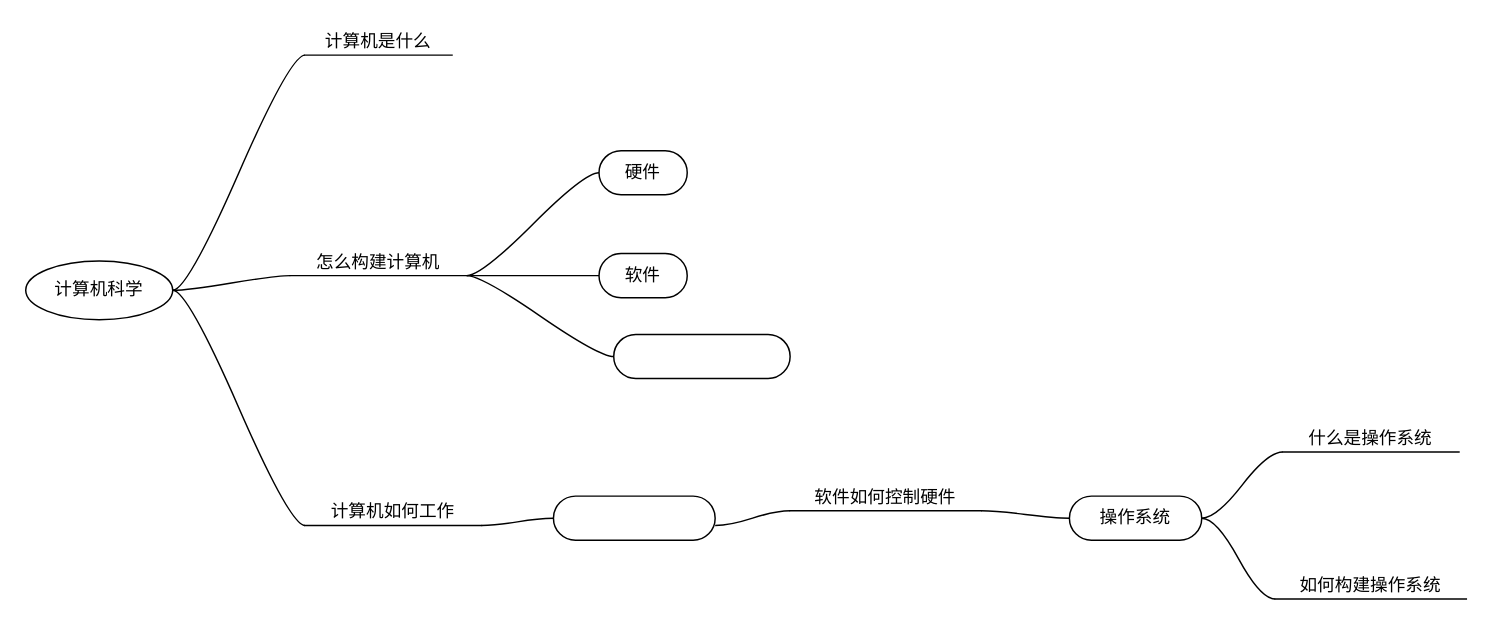
Image size: 1492x625. Some labels were removed from this diagram. The shapes that lost their labels are listed below. From the top down, each one's centre as x and y in pixels, then its label:
pixel 701 356: 计算机体系结构
pixel 633 517: 软件控制硬件
